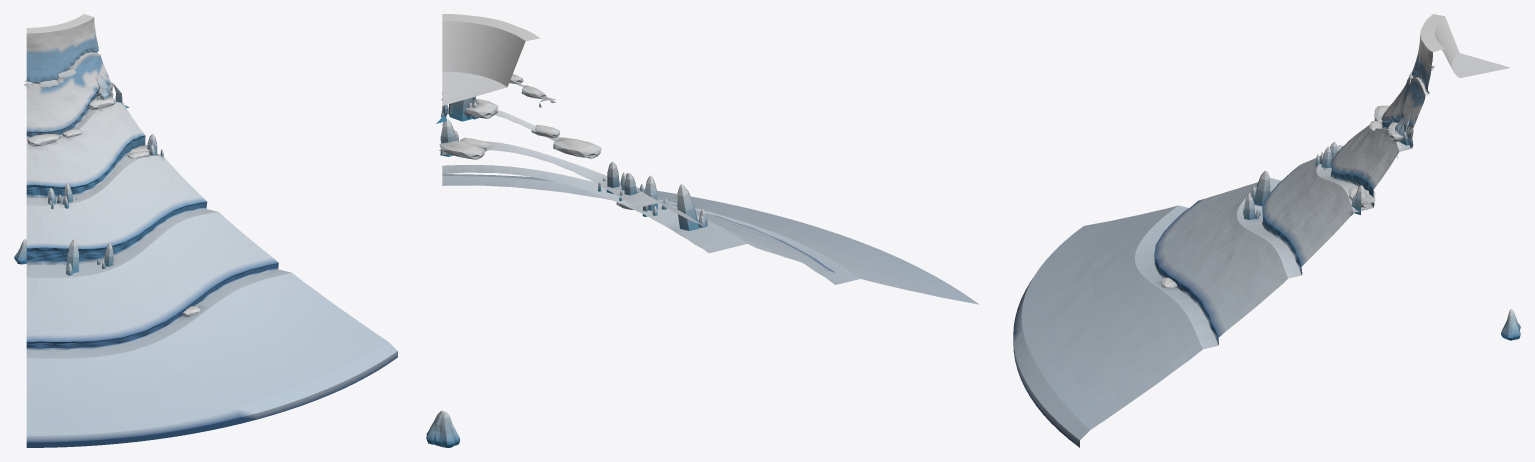
The model's file is glacier-s5-ByQCXrUg.glb.
3 renders of one model, left to right at view 1: azimuth 30°, elevation 25°; view 2: azimuth 150°, elevation 25°; view 3: azimuth 270°, elevation 25°, orthographic. The views are drawn at different scales.
Parts seen in each view (by area): view 1: sc_landmark_4; view 2: sc_landmark_4; view 3: sc_landmark_4.
Boxes of the visible parts, x1=… form: sc_landmark_4: x1=24, y1=14, x2=397, y2=447; sc_landmark_4: x1=436, y1=14, x2=979, y2=304; sc_landmark_4: x1=1013, y1=14, x2=1510, y2=447.
Bounding box in the file's own units: 416 × 286 × 424.
